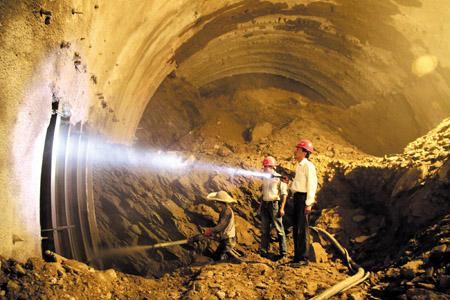gloves: (203, 226, 213, 236)
hard-hat: (296, 139, 314, 153), (261, 155, 278, 166)
person: (288, 138, 317, 264), (257, 155, 288, 259), (201, 190, 240, 264)
